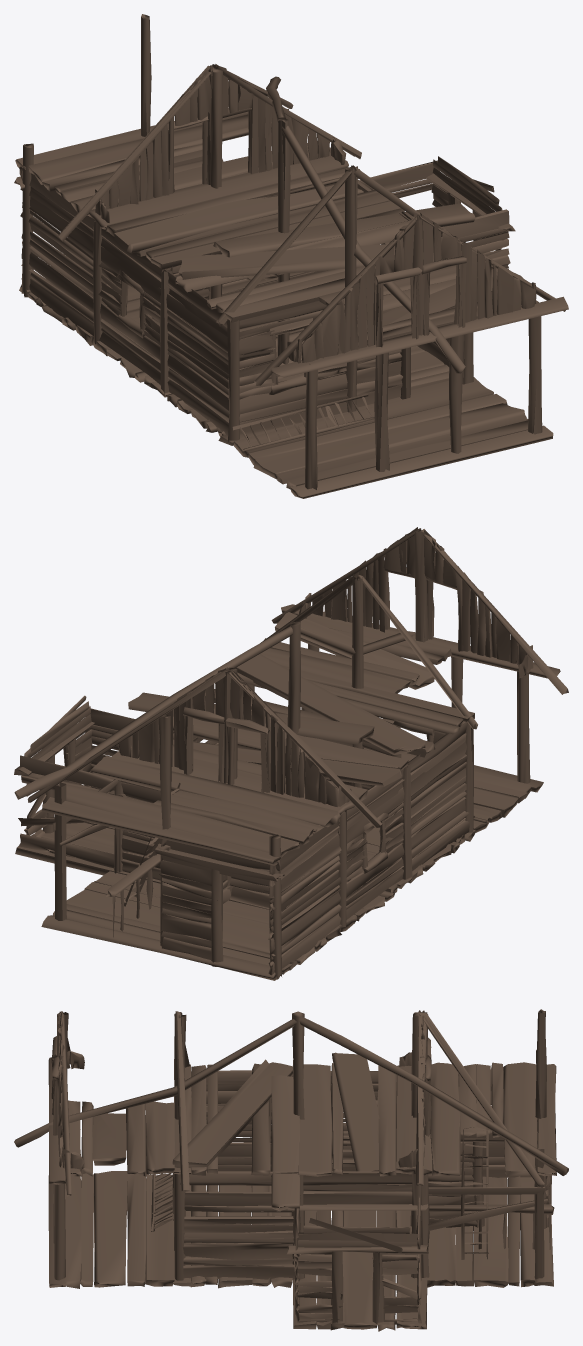
File: -LOD1_p_hut_003.fbx
3 renders of one model, top to bottom at view 1: azimuth 30°, elevation 25°; view 2: azimuth 150°, elevation 25°; view 3: azimuth 270°, elevation 25°, orthographic. The views are drawn at different scales.
Parts seen in each view (by area): view 1: Cylinder.006; view 2: Cylinder.006; view 3: Cylinder.006.
Boxes of the visible parts, x1,y1,x2,y2 form: Cylinder.006: [14, 14, 568, 498]; Cylinder.006: [14, 527, 568, 980]; Cylinder.006: [14, 1009, 568, 1331].
Bounding box in the file's own units: 1338 × 834 × 1870.
